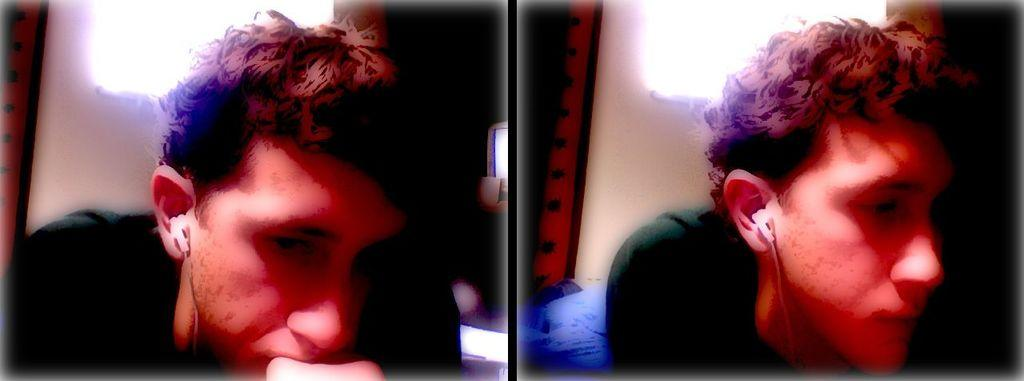Sem Máscara: (187, 132, 403, 378), (772, 109, 953, 378)
